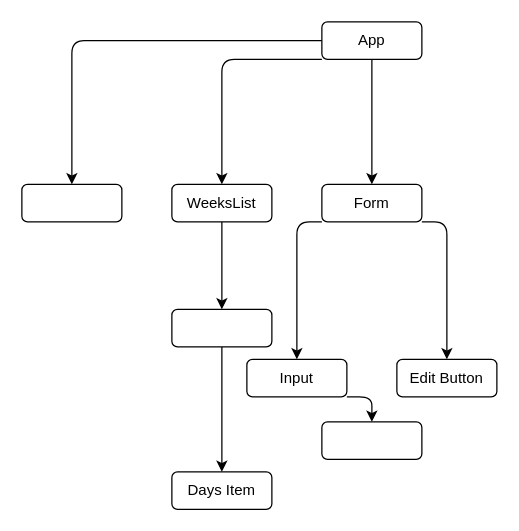
Some shapes in this 519 by 531 pixel diagram are drawn without their labels. The shapes that lost their labels are listed below. From the top down, each one's centre as x and y in pixels, then its label:
[71,202]: Header
[221,327]: Weeks Item
[371,440]: Submit Button
